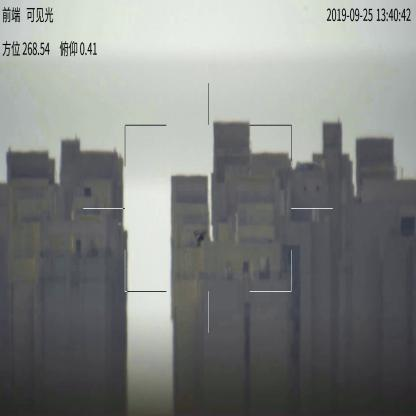uav: (194, 227, 209, 248)
